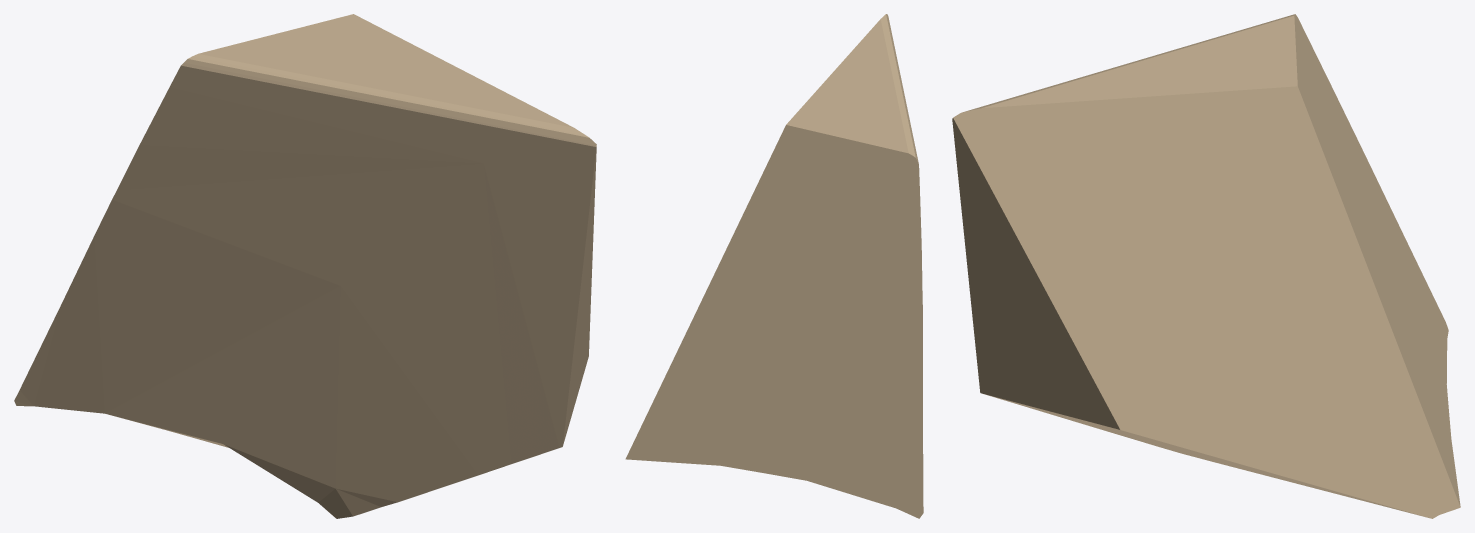
Rendered from SM_stone_debris_06.fbx.
The picture shows the model from 3 angles, left to right: view 1: azimuth 30°, elevation 25°; view 2: azimuth 150°, elevation 25°; view 3: azimuth 270°, elevation 25°; orthographic projection. The views are drawn at different scales.
Visible parts, largest first — view 1: stone_debris_06; view 2: stone_debris_06; view 3: stone_debris_06.
Part boxes in pixels (x1,y1,x2,y2): stone_debris_06: (14,14,596,518); stone_debris_06: (625,14,923,518); stone_debris_06: (952,14,1460,518).
Bounding box in the file's own units: 195 × 206 × 235.
